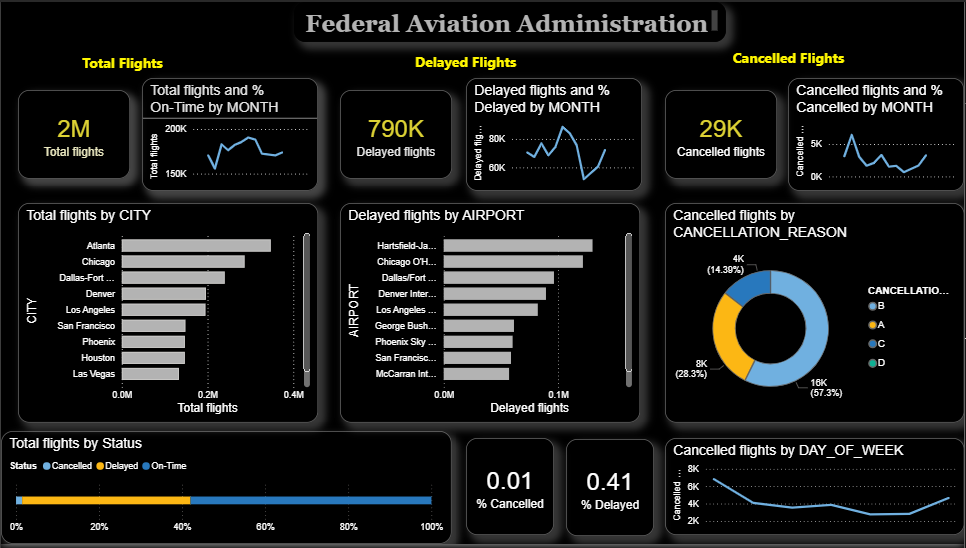

What the dashboard file says about the page in this screenshot:
{"tool":"powerbi","page":{"name":"Page 1","canvas":[1280,720],"ordinal":0},"visuals":[{"type":"card","fields":{"Values":["flights.Total flights"]},"box":[22,117,148.6,118.4],"z":0},{"type":"lineChart","fields":{"Category":["flights.MONTH"],"Y":["flights.Total flights"]},"box":[187.2,100.5,234,150],"z":1000},{"type":"card","fields":{"Values":["flights.Delayed flights"]},"box":[450.1,117,148.6,118.4],"z":2000},{"type":"lineChart","fields":{"Category":["flights.MONTH"],"Y":["flights.Delayed flights"]},"box":[618,100.5,234,150],"z":3000},{"type":"card","fields":{"Values":["flights.Cancelled flights"]},"box":[882.2,117,148.6,118.4],"z":4000},{"type":"lineChart","fields":{"Category":["flights.MONTH"],"Y":["flights.Cancelled flights"]},"box":[1046,100.5,234,150],"z":5000},{"type":"textbox","box":[95.7,62.5,131.6,38.5],"z":6000},{"type":"textbox","box":[539.6,61.1,155.5,38.5],"z":7000},{"type":"textbox","box":[951.7,55.8,190.1,45.2],"z":8000},{"type":"hundredPercentStackedBarChart","fields":{"Y":["flights.Total flights"],"Series":["flights.Status"]},"box":[0,569.9,599.1,150.1],"z":9000},{"type":"donutChart","fields":{"Y":["flights.Cancelled flights"],"Category":["flights.CANCELLATION_REASON"]},"box":[882.2,267,397.8,291.8],"z":10000},{"type":"lineChart","fields":{"Category":["flights.DAY_OF_WEEK"],"Y":["flights.Cancelled flights"]},"box":[882.2,579.4,397.8,129.4],"z":11000},{"type":"clusteredBarChart","fields":{"Y":["flights.Total flights"],"Category":["airports.CITY"]},"box":[22,267,399.1,291.8],"z":12000},{"type":"clusteredBarChart","fields":{"Category":["airports.AIRPORT"],"Y":["flights.Delayed flights"]},"box":[450.1,267,399.1,291.8],"z":13000},{"type":"textbox","box":[389.4,0,574.2,53.2],"z":14000},{"type":"card","fields":{"Values":["flights.% Cancelled"]},"box":[618,579.4,117,129.4],"z":15000},{"type":"card","fields":{"Values":["flights.% Delayed"]},"box":[751.5,580.8,117,129.4],"z":16000}]}

Visuals, with their boxes in screenshot pixels (x1, y1, x2, y2), scaled from the page's 1280x720 canvas onto the 966x548 screenshot:
card - flights.Total flights: [x1=17, y1=89, x2=129, y2=179]
lineChart - flights.MONTH x flights.Total flights: [x1=141, y1=76, x2=318, y2=191]
card - flights.Delayed flights: [x1=340, y1=89, x2=452, y2=179]
lineChart - flights.MONTH x flights.Delayed flights: [x1=466, y1=76, x2=643, y2=191]
card - flights.Cancelled flights: [x1=666, y1=89, x2=778, y2=179]
lineChart - flights.MONTH x flights.Cancelled flights: [x1=789, y1=76, x2=965, y2=191]
textbox: [x1=72, y1=48, x2=172, y2=77]
textbox: [x1=407, y1=47, x2=525, y2=76]
textbox: [x1=718, y1=42, x2=862, y2=77]
hundredPercentStackedBarChart - flights.Total flights x flights.Status: [x1=0, y1=434, x2=452, y2=547]
donutChart - flights.Cancelled flights x flights.CANCELLATION_REASON: [x1=666, y1=203, x2=965, y2=425]
lineChart - flights.DAY_OF_WEEK x flights.Cancelled flights: [x1=666, y1=441, x2=965, y2=539]
clusteredBarChart - flights.Total flights x airports.CITY: [x1=17, y1=203, x2=318, y2=425]
clusteredBarChart - airports.AIRPORT x flights.Delayed flights: [x1=340, y1=203, x2=641, y2=425]
textbox: [x1=294, y1=0, x2=727, y2=40]
card - flights.% Cancelled: [x1=466, y1=441, x2=555, y2=539]
card - flights.% Delayed: [x1=567, y1=442, x2=655, y2=541]
